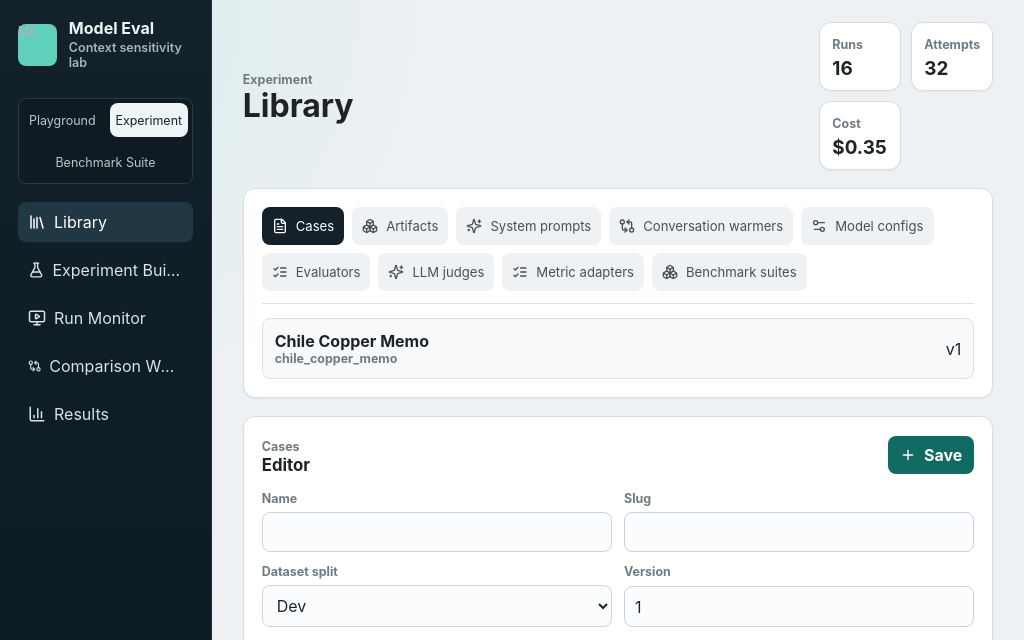
Scenario: App experiment builder › surfaces library conflicts without duplicating local records
Type "Duplicate case" into the field labelled "Name" at (437, 532), box x1=262 y1=512 x2=612 y2=552
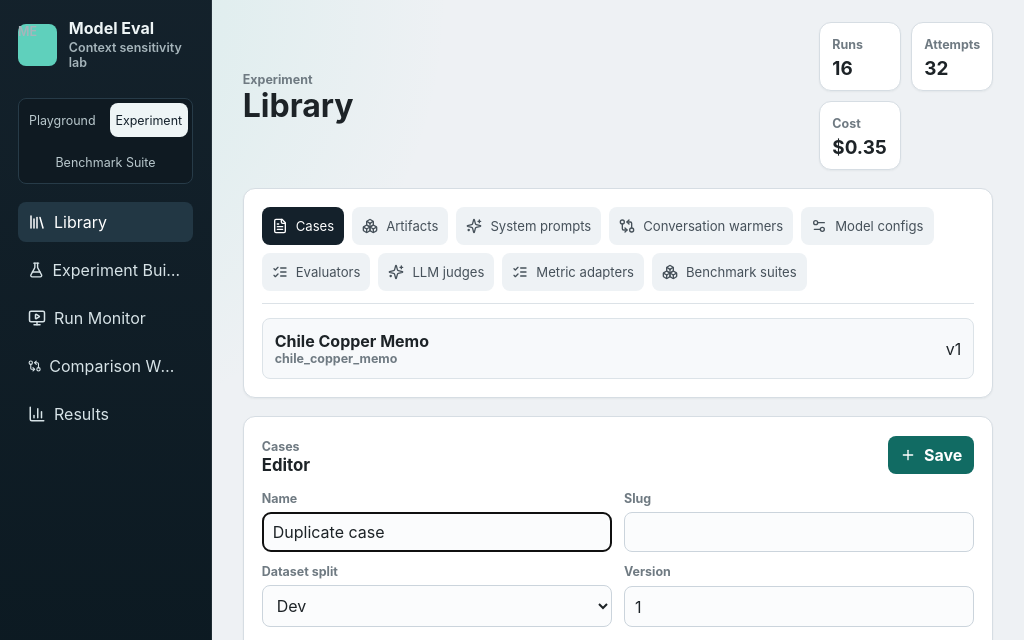
Type "chile_copper_memo" into the field labelled "Slug" at (799, 532), box x1=624 y1=512 x2=974 y2=552
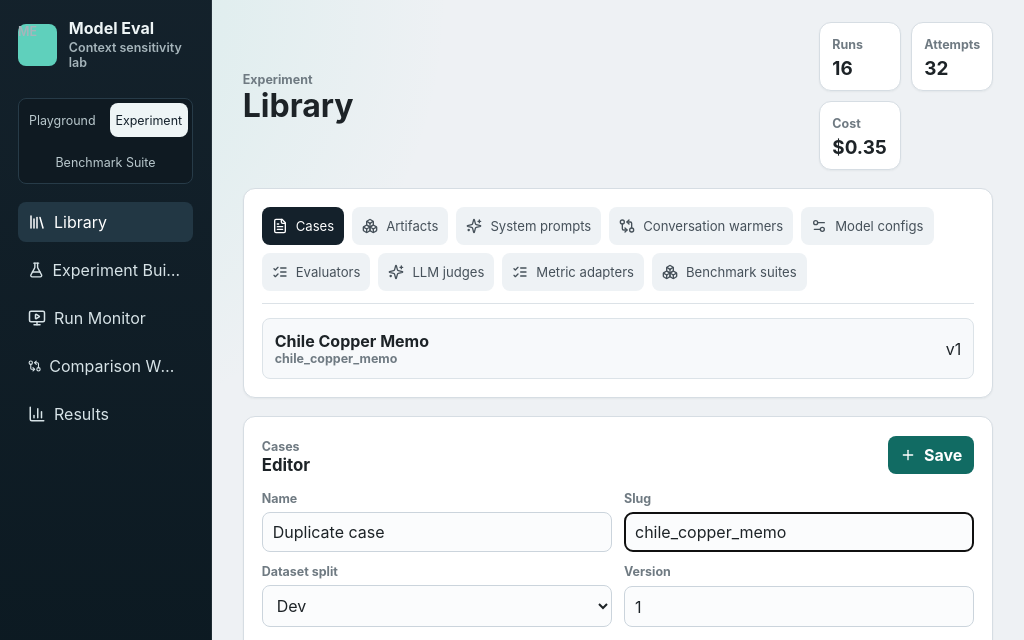
Click the button "Save" at (931, 455), box x1=888 y1=436 x2=974 y2=474
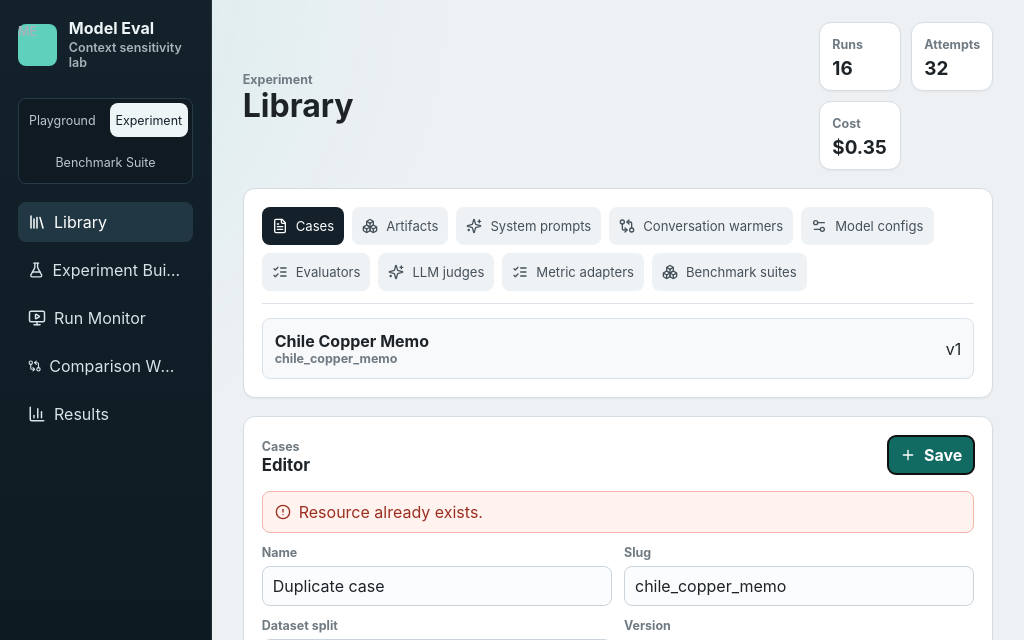
Result: the message reads "Resource already exists." at x1=299 y1=502 x2=483 y2=522
